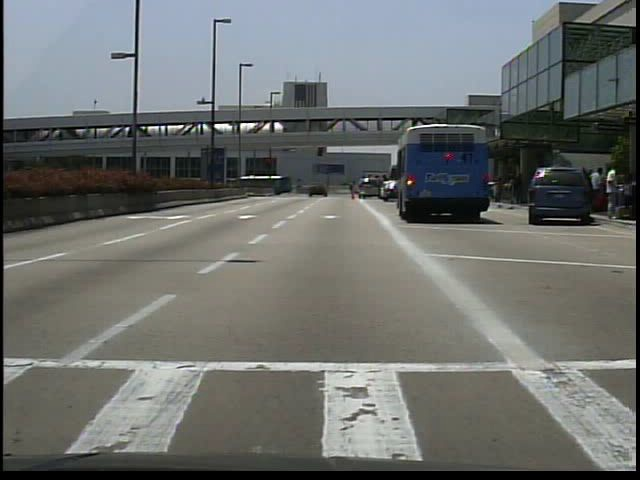person: (604, 162, 624, 219), (515, 170, 528, 205), (591, 166, 607, 189), (347, 181, 358, 195), (319, 183, 328, 199), (608, 165, 609, 214)
